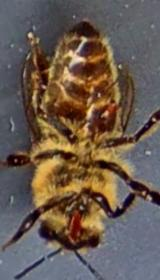varroa_mite: (92, 94, 117, 128)
